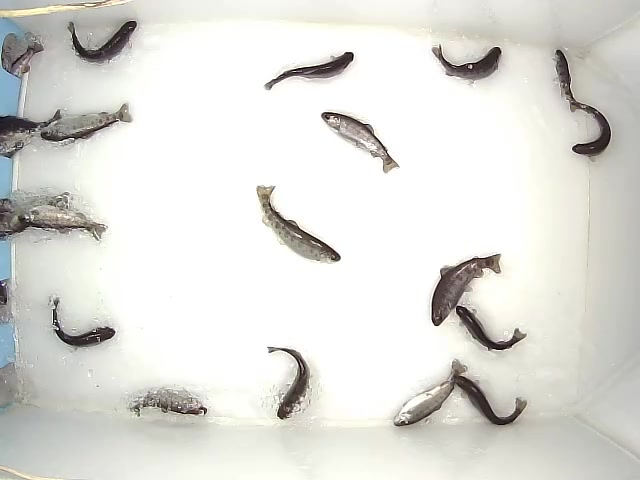fish: (255, 184, 342, 264), (430, 251, 503, 327), (392, 358, 468, 428), (320, 111, 401, 175), (47, 294, 117, 352), (452, 374, 528, 427), (262, 50, 355, 92), (40, 103, 134, 142), (266, 345, 312, 422), (455, 305, 527, 353), (18, 205, 109, 242), (65, 19, 138, 65), (430, 42, 502, 84), (568, 97, 612, 165), (127, 388, 208, 420), (553, 47, 579, 113)
